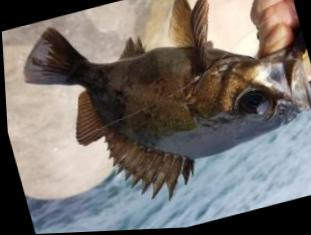fish: (21, 0, 311, 201)
